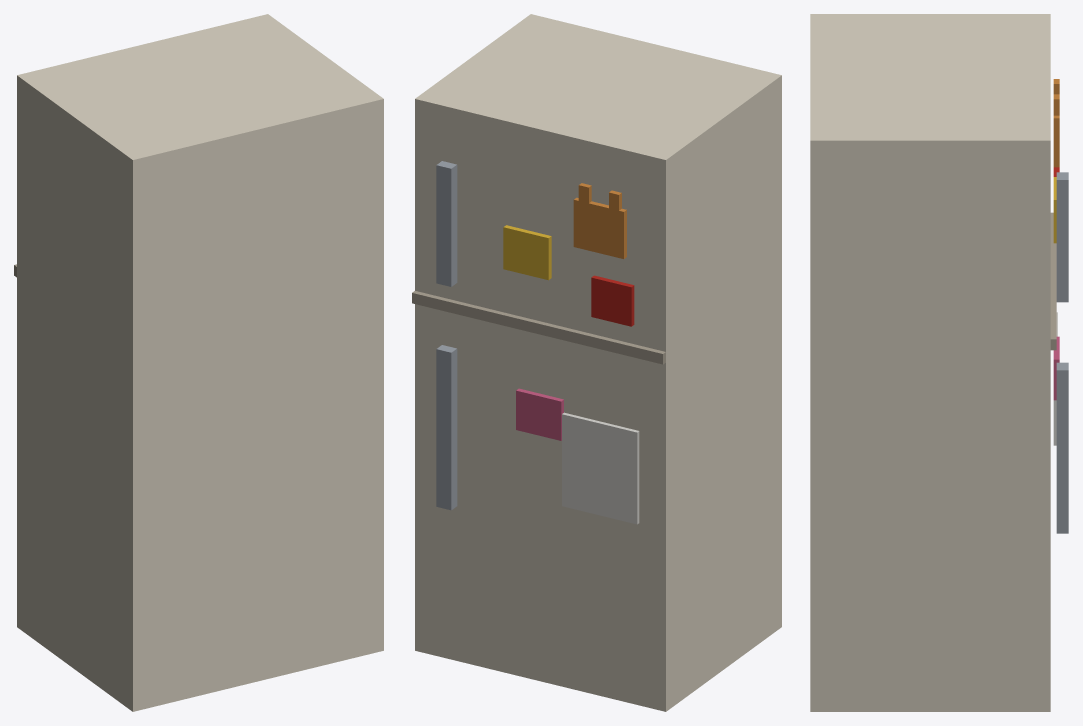
Rendered from ncb-fridge.glb.
3 renders of one model, left to right at view 1: azimuth 30°, elevation 25°; view 2: azimuth 150°, elevation 25°; view 3: azimuth 270°, elevation 25°, orthographic. The views are drawn at different scales.
Visible parts, largest first — view 1: box-prop; view 2: box-prop; view 3: box-prop.
Boxes of the visible parts, x1,y1,x2,y2 form: box-prop: (14, 14, 383, 711); box-prop: (412, 14, 781, 711); box-prop: (810, 14, 1068, 711).
Bounding box in the file's own units: 1 × 2.1 × 0.86.
